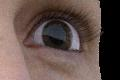eye: (43, 21, 72, 49)
